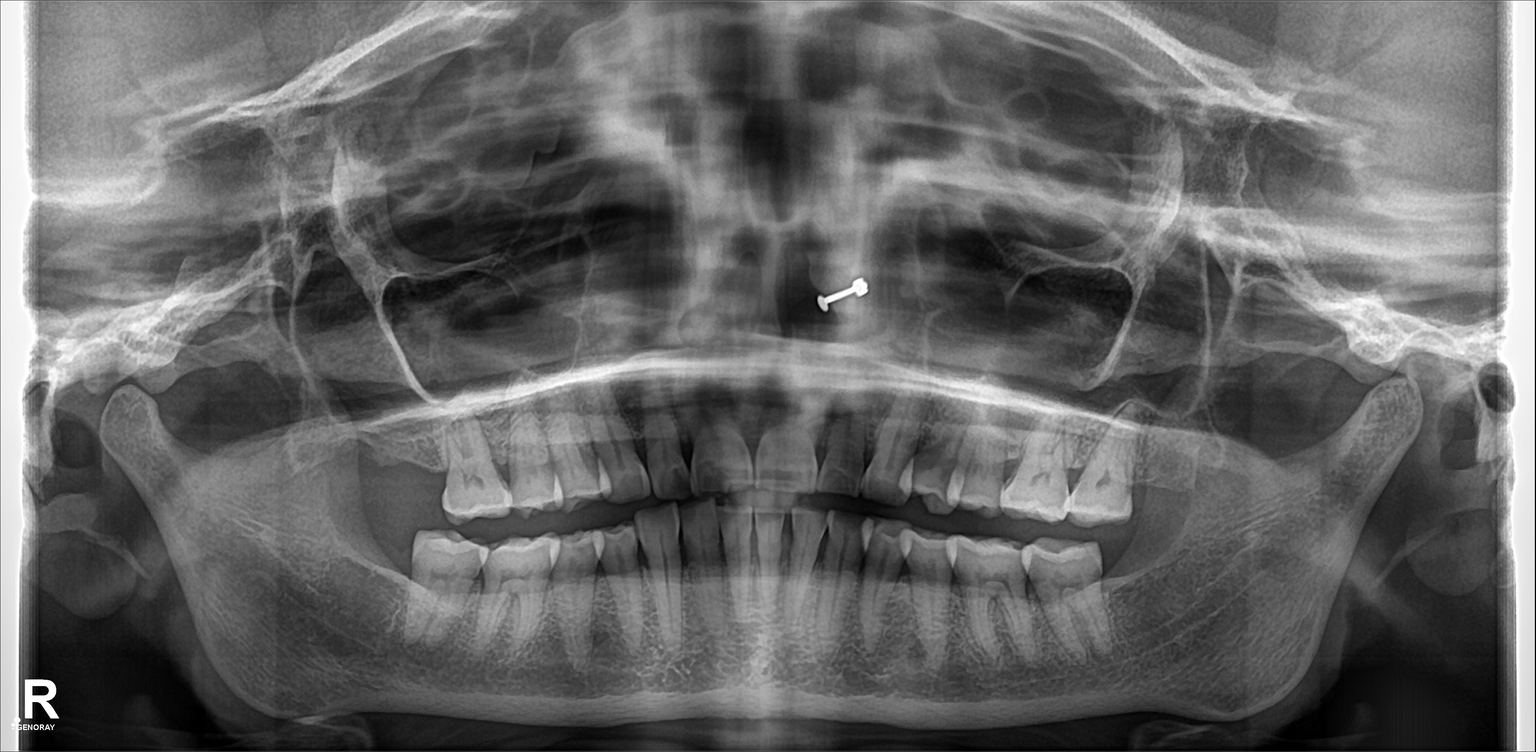Dental Caries: (656, 463, 717, 496)
Missing Tooth: (1102, 542, 1146, 630), (367, 540, 411, 615), (1140, 434, 1181, 514), (350, 436, 386, 521), (402, 434, 435, 511)
